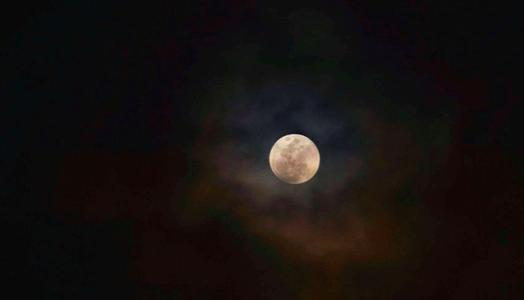moon: (269, 133, 319, 185)
